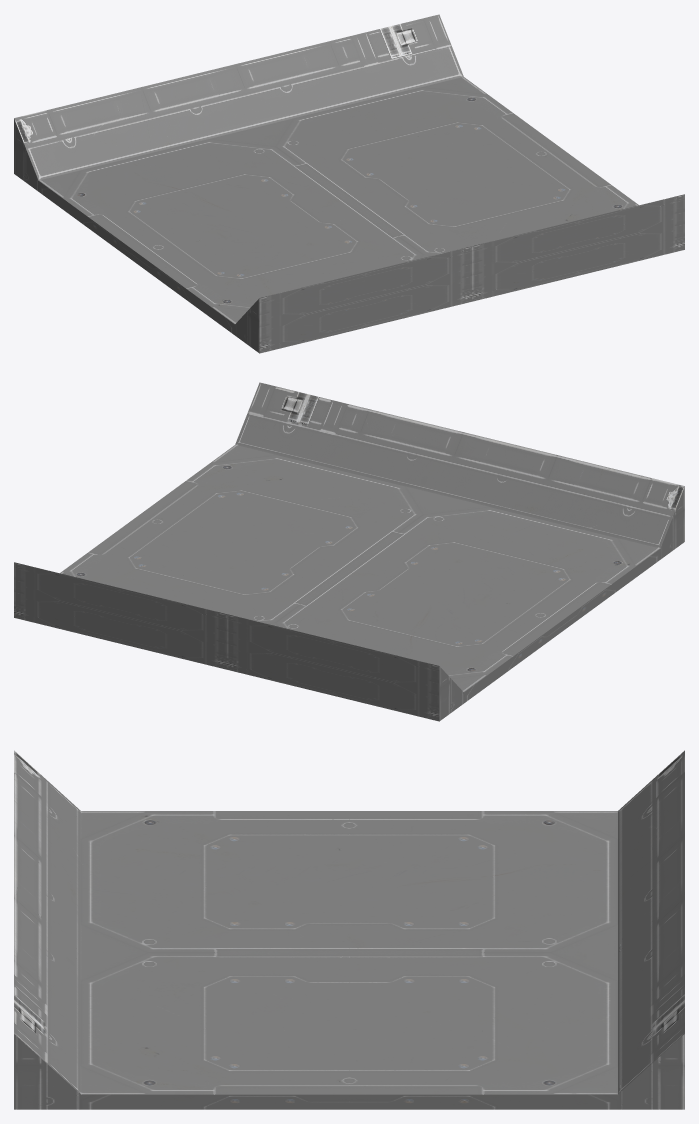
Rendered from SM_CeilingS02.fbx.
The picture shows the model from 3 angles, top to bottom: view 1: azimuth 30°, elevation 25°; view 2: azimuth 150°, elevation 25°; view 3: azimuth 270°, elevation 25°; orthographic projection. The views are drawn at different scales.
Visible parts, largest first — view 1: SM_CeilingS02_LOD0; view 2: SM_CeilingS02_LOD0; view 3: SM_CeilingS02_LOD0.
Part boxes in pixels (box(x1,y1,x2,y2)): SM_CeilingS02_LOD0: box(14, 14, 684, 353); SM_CeilingS02_LOD0: box(14, 382, 684, 721); SM_CeilingS02_LOD0: box(14, 750, 684, 1109).
Bounding box in the file's own units: 400 × 400 × 50.
1 material, 1 textured.
